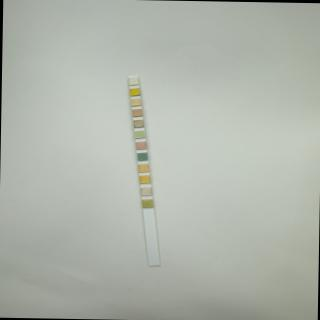mark: (140, 187, 152, 196), (138, 174, 150, 183), (138, 164, 149, 172), (134, 130, 145, 138), (131, 108, 142, 116), (142, 200, 152, 208), (136, 152, 146, 160), (136, 141, 146, 149), (133, 120, 143, 128), (130, 98, 140, 106), (129, 88, 139, 96), (128, 77, 138, 85)
